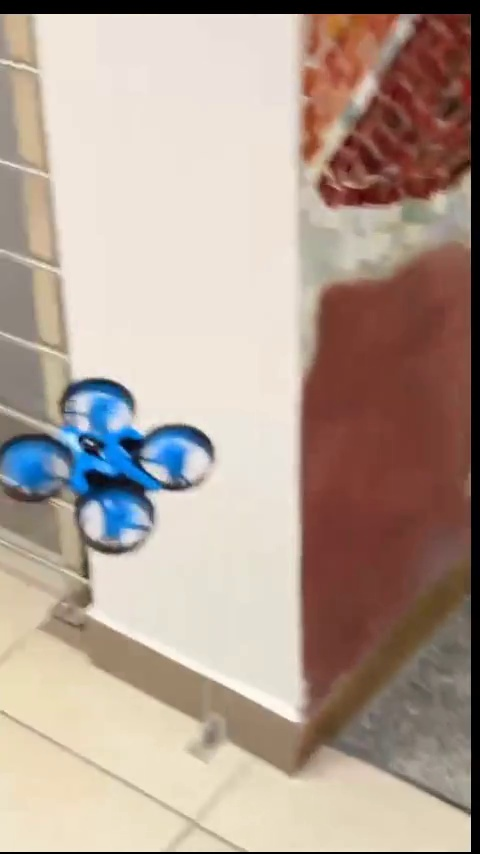drone: (3, 375, 222, 556)
